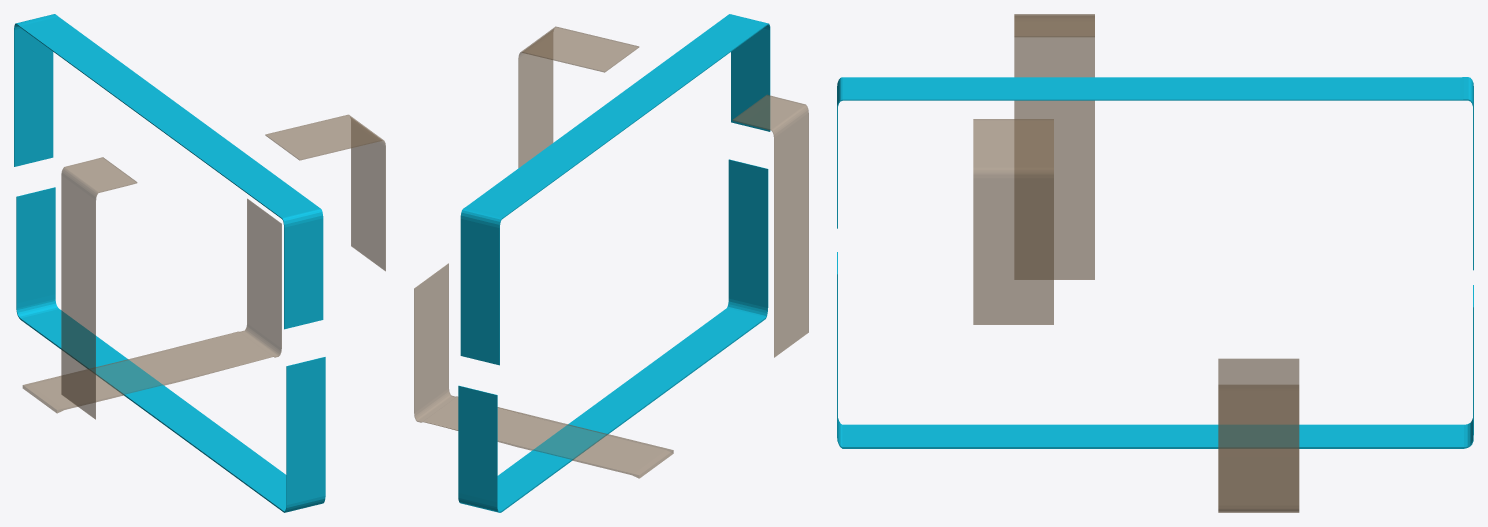
The model's file is tape_open_1.fbx.
The picture shows the model from 3 angles, left to right: view 1: azimuth 30°, elevation 25°; view 2: azimuth 150°, elevation 25°; view 3: azimuth 270°, elevation 25°; orthographic projection. The views are drawn at different scales.
Parts seen in each view (by area): view 1: tape_0.010, 평면.041, 평면.040, 평면.039; view 2: tape_0.010, 평면.041, 평면.040, 평면.039; view 3: tape_0.010, 평면.040, 평면.039, 평면.041.
Boxes of the visible parts, left/top/right/bottom form: tape_0.010: left=14, top=14, right=325, bottom=512; 평면.041: left=22, top=198, right=281, bottom=413; 평면.040: left=61, top=157, right=137, bottom=419; 평면.039: left=265, top=114, right=385, bottom=271; tape_0.010: left=458, top=14, right=770, bottom=512; 평면.041: left=414, top=263, right=673, bottom=478; 평면.040: left=732, top=94, right=808, bottom=357; 평면.039: left=518, top=26, right=638, bottom=167; tape_0.010: left=837, top=77, right=1473, bottom=448; 평면.040: left=1014, top=14, right=1094, bottom=279; 평면.039: left=973, top=119, right=1053, bottom=324; 평면.041: left=1218, top=358, right=1299, bottom=512.
Size of the model in its own units: 146 by 152 by 251.
